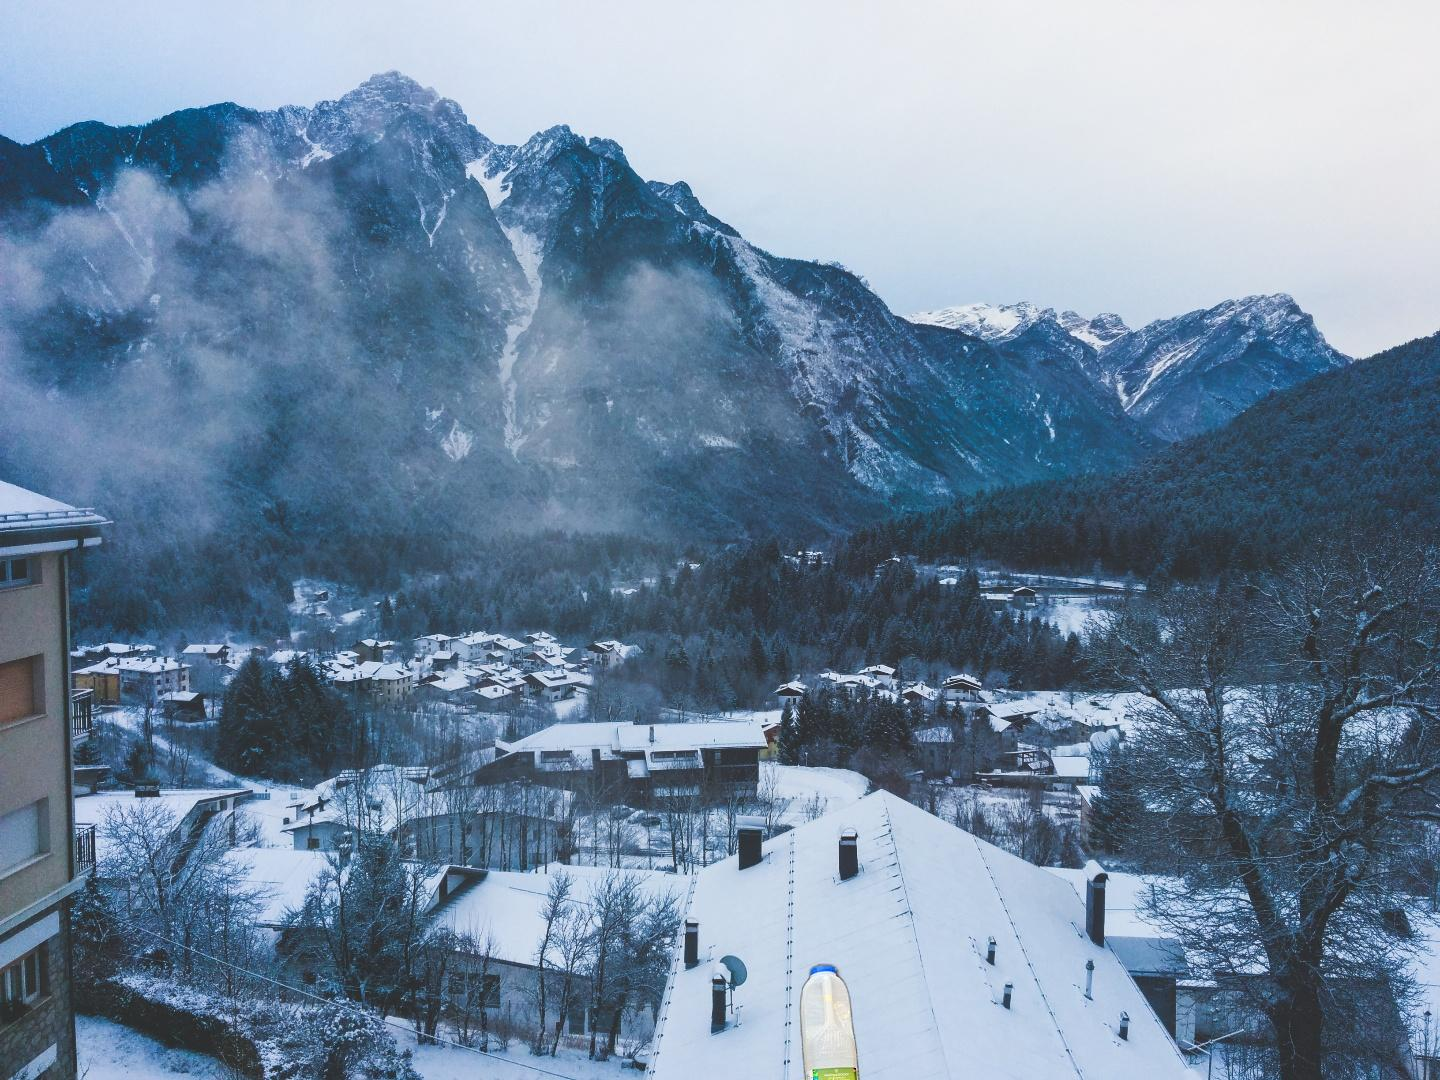plastic-bottles: (796, 957, 867, 1080)
